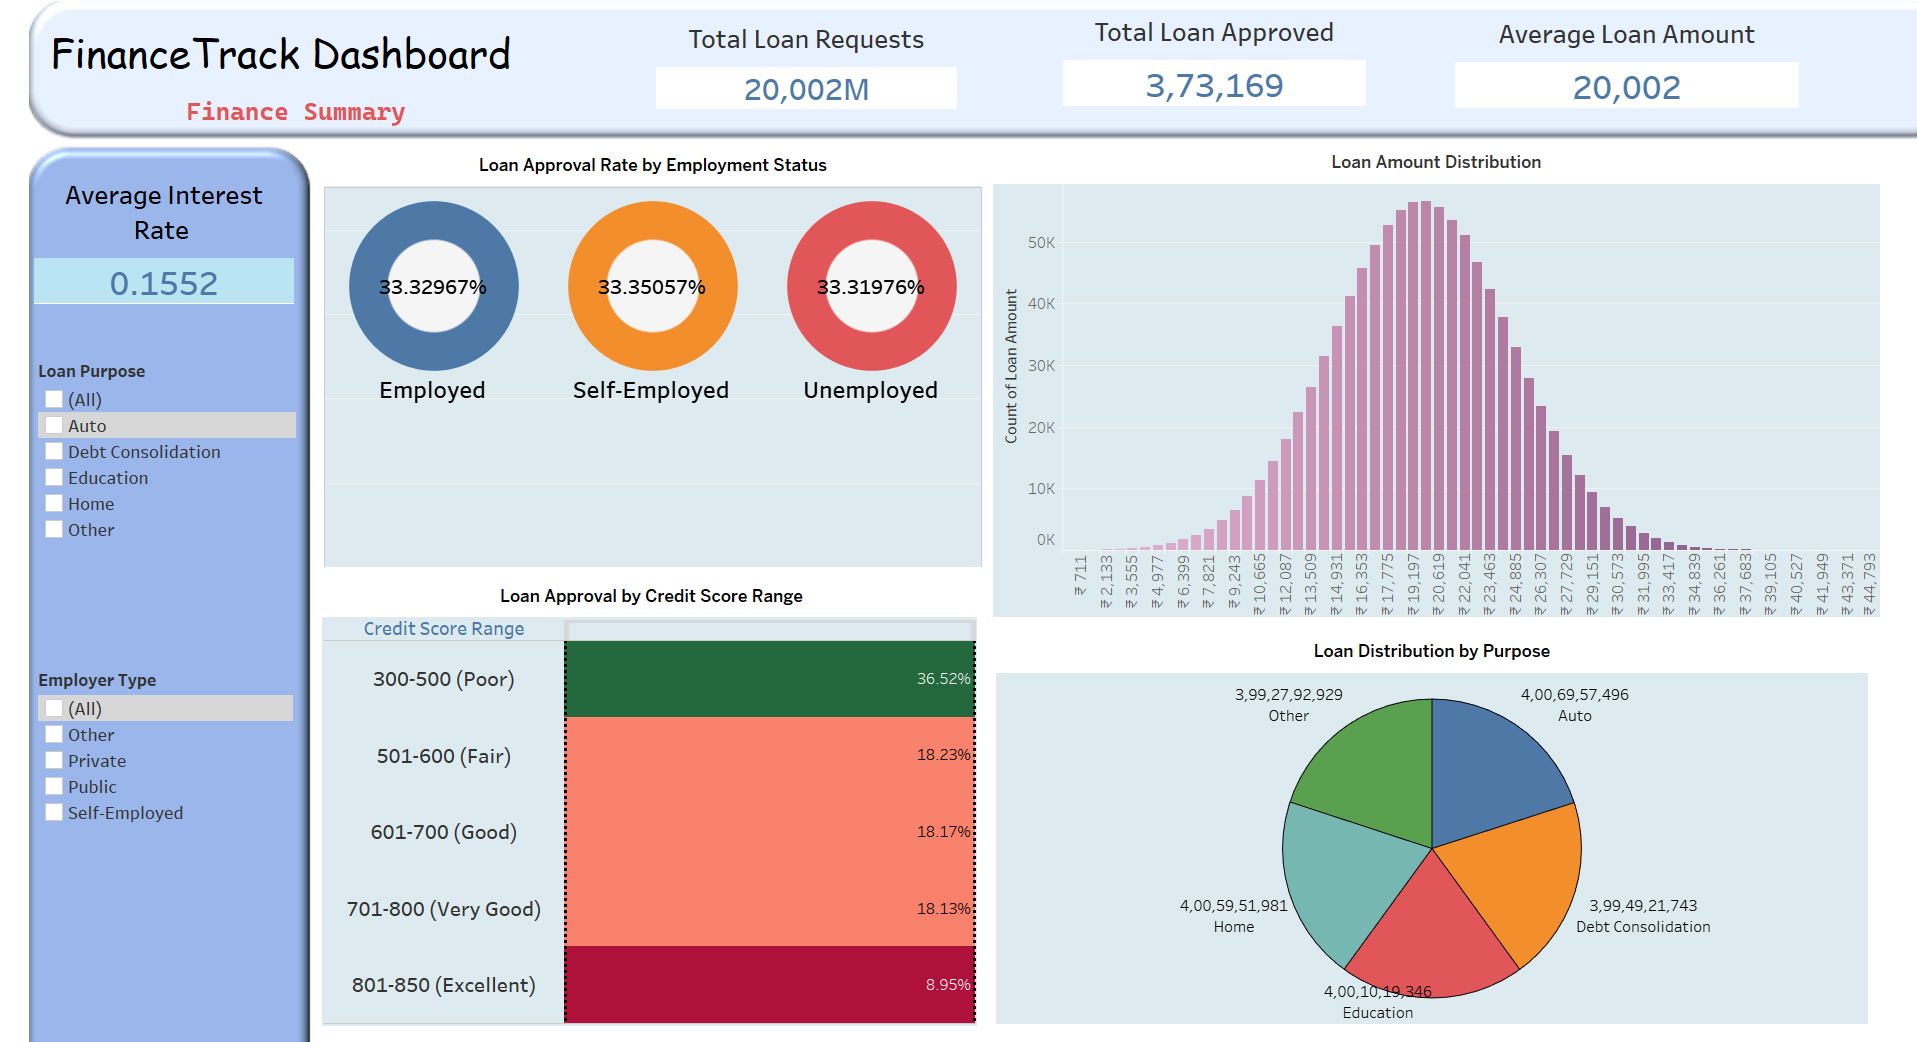

The page's visual inventory and layout, read from the dashboard file:
{"tool":"tableau","page":{"name":"Overview ","canvas":[1000,1000],"units":"permille","ordinal":1},"visuals":[{"type":"worksheet","title":"Total Loan Approved","mark":"Automatic","box":[554.5,9.4,157.9,119.9]},{"type":"worksheet","title":"Average Loan Amount","mark":"Automatic","box":[758.8,11.8,179.2,111.6]},{"type":"text","box":[25.7,16.4,297,65.8]},{"type":"worksheet","title":"Total Loan Requests","mark":"Automatic","box":[342.7,16.4,156.6,108.1]},{"type":"dashboard-object","box":[892,74,99,61.1]},{"type":"text","box":[96.5,89.3,146,35.2]},{"type":"worksheet","title":"chart4","mark":"Bar","rows":["LoanAmount"],"cols":["Loan Amount (bin)"],"box":[518.4,142.2,467.7,404.2]},{"type":"worksheet","title":"chart 1","mark":"Automatic","rows":["LoanApproved","LoanApproved"],"cols":["EmploymentStatus"],"box":[169.8,144.5,342.7,399.5]},{"type":"worksheet","title":"Average Interest Rate ","mark":"Automatic","box":[18.8,165.7,135.3,162.2]},{"type":"filter","title":"filter","param":"[federated.1yazxop0s0wtwq197ndzq12i0eiv].[none:LoanPurpose:nk]","box":[20.7,344.3,134.7,263.2]},{"type":"worksheet","title":"chart 3","mark":"Pie","box":[383.8,554.6,291.5,419.5]},{"type":"worksheet","title":"chart 2","mark":"Square","rows":["Calculation_715509448780226561"],"box":[168.4,558.2,206.4,425.4]},{"type":"worksheet","title":"Interest Rate by Loan Type","mark":"Automatic","rows":["LoanApproved"],"cols":["EmploymentStatus"],"box":[677.7,564,313.2,427.7]},{"type":"worksheet","title":"filter","mark":"Automatic","box":[67.7,581.7,22.6,2.4]},{"type":"filter","title":"filter","param":"[federated.1yazxop0s0wtwq197ndzq12i0eiv].[none:EmployerType:nk]","box":[20.7,640.4,132.8,277.3]}]}

Visuals, with their boxes on the dashboard's canvas, which has no fixed pixel size, in thousandths of its width and height (x1, y1, x2, y2). These are canvas units, not pixel positions in the 1917x1042 screenshot, which may show the page scaled, cropped or inside an application window:
"Total Loan Approved" worksheet: bbox=[554, 9, 712, 129]
"Average Loan Amount" worksheet: bbox=[759, 12, 938, 123]
text: bbox=[26, 16, 323, 82]
"Total Loan Requests" worksheet: bbox=[343, 16, 499, 124]
dashboard-object: bbox=[892, 74, 991, 135]
text: bbox=[96, 89, 242, 124]
"chart4" worksheet (Bar marks): bbox=[518, 142, 986, 546]
"chart 1" worksheet: bbox=[170, 144, 512, 544]
"Average Interest Rate " worksheet: bbox=[19, 166, 154, 328]
"filter" filter: bbox=[21, 344, 155, 608]
"chart 3" worksheet (Pie marks): bbox=[384, 555, 675, 974]
"chart 2" worksheet (Square marks): bbox=[168, 558, 375, 984]
"Interest Rate by Loan Type" worksheet: bbox=[678, 564, 991, 992]
"filter" worksheet: bbox=[68, 582, 90, 584]
"filter" filter: bbox=[21, 640, 154, 918]
